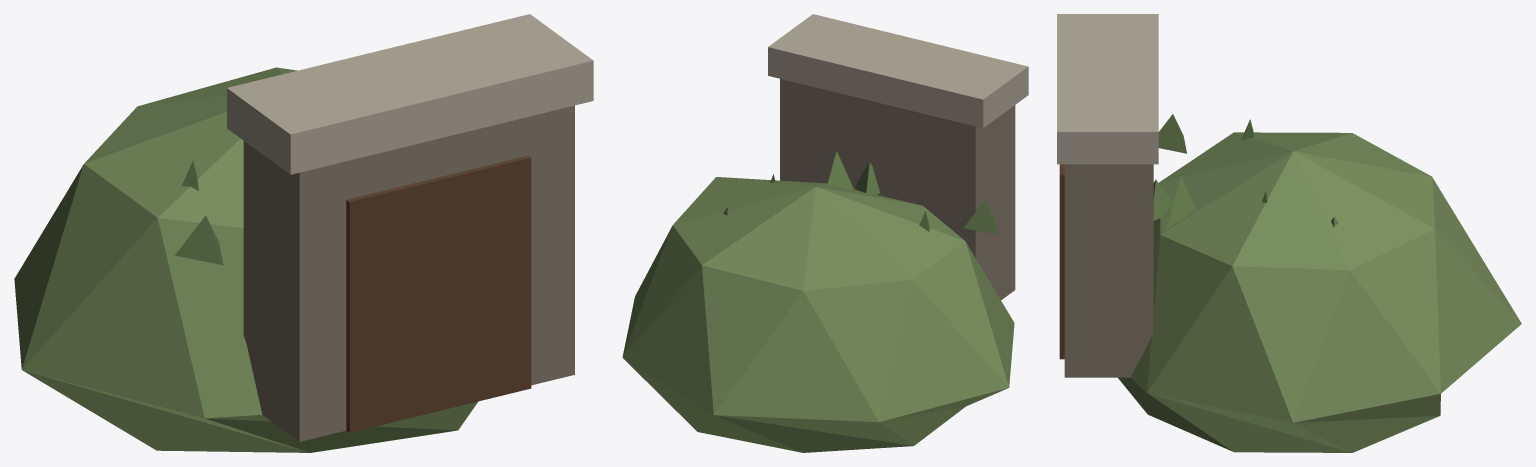
Rendered from root_cellar.glb.
The picture shows the model from 3 angles, left to right: view 1: azimuth 30°, elevation 25°; view 2: azimuth 150°, elevation 25°; view 3: azimuth 270°, elevation 25°; orthographic projection. The views are drawn at different scales.
Parts seen in each view (by area): view 1: root_cellar; view 2: root_cellar; view 3: root_cellar.
Boxes of the visible parts, <box> form: root_cellar: <box>14,14,593,452</box>; root_cellar: <box>622,14,1028,452</box>; root_cellar: <box>1057,14,1521,452</box>.
Bounding box in the file's own units: 1.91 × 1.36 × 1.83.
